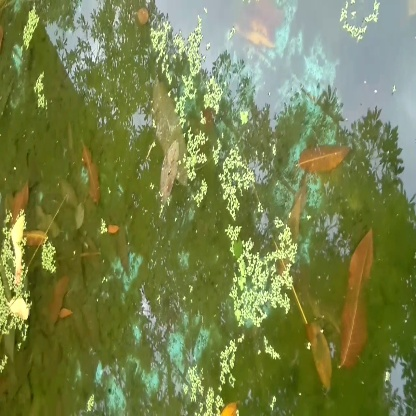leaf: (334, 222, 382, 376), (292, 135, 361, 181)
